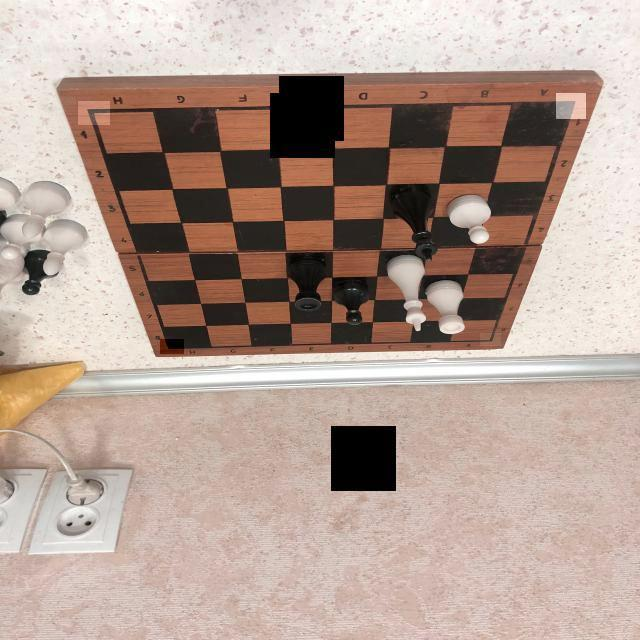chess-table-corners: (556, 93, 586, 119), (78, 101, 110, 125), (160, 339, 183, 354), (480, 333, 501, 346)
